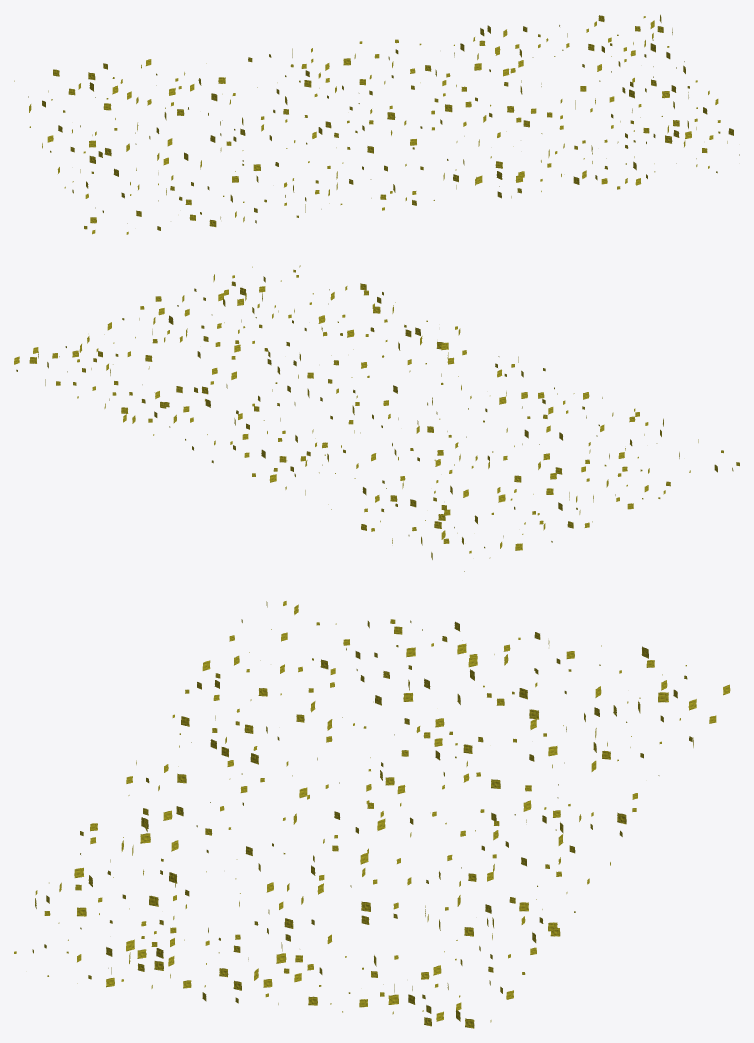
File: Made_Up_Grass.fbx
The picture shows the model from 3 angles, top to bottom: view 1: azimuth 30°, elevation 25°; view 2: azimuth 150°, elevation 25°; view 3: azimuth 270°, elevation 25°; orthographic projection. The views are drawn at different scales.
Parts seen in each view (by area): view 1: Made_Up_Grass; view 2: Made_Up_Grass; view 3: Made_Up_Grass.
Boxes of the visible parts, box(x1,y1,x2,y2) form: Made_Up_Grass: box(14, 14, 739, 234); Made_Up_Grass: box(14, 265, 739, 571); Made_Up_Grass: box(14, 601, 730, 1028).
Size of the model in its own units: 37655 by 411 by 27271.
